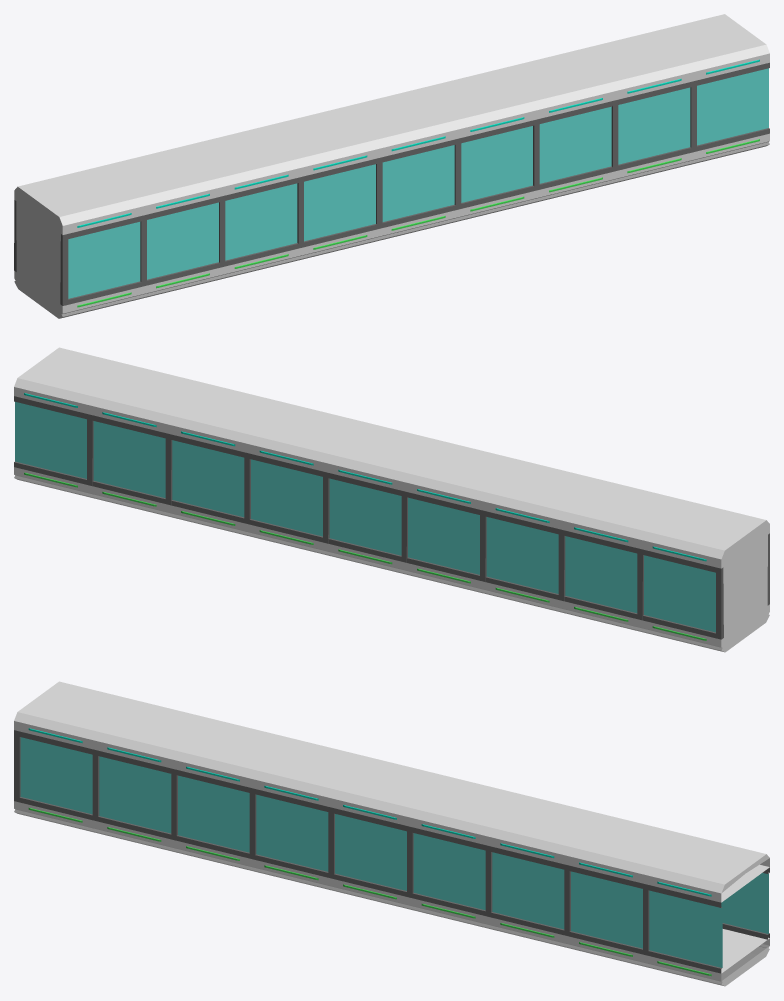
The model's file is Skybridge.fbx.
3 views of the same model, one above another, from view 1: azimuth 30°, elevation 25°; view 2: azimuth 150°, elevation 25°; view 3: azimuth 330°, elevation 25° (orthographic).
Visible parts, largest first — view 1: Cube, Cube.001; view 2: Cube; view 3: Cube, Cube.001.
Part boxes in pixels (x1,y1,x2,y2): Cube: (14,14,769,318); Cube.001: (60,62,769,305); Cube: (14,347,769,652); Cube: (14,681,769,986); Cube.001: (14,730,722,973).
Size of the model in its own units: 1683 by 232 by 203.
